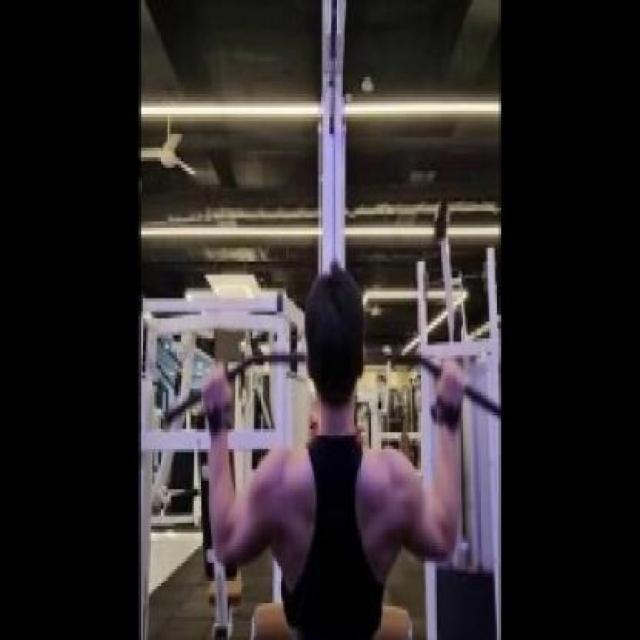Lat Pull Down: (156, 0, 507, 640)
